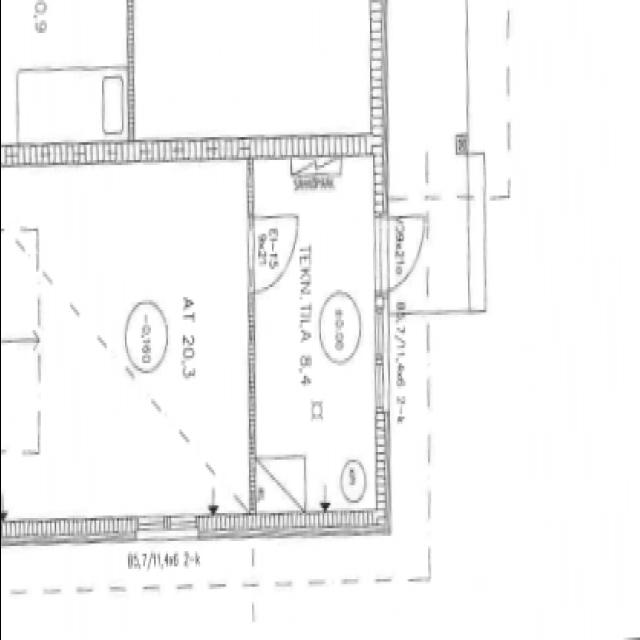door: (235, 210, 311, 303), (371, 201, 433, 296)
window: (117, 508, 205, 572), (369, 280, 394, 430)
